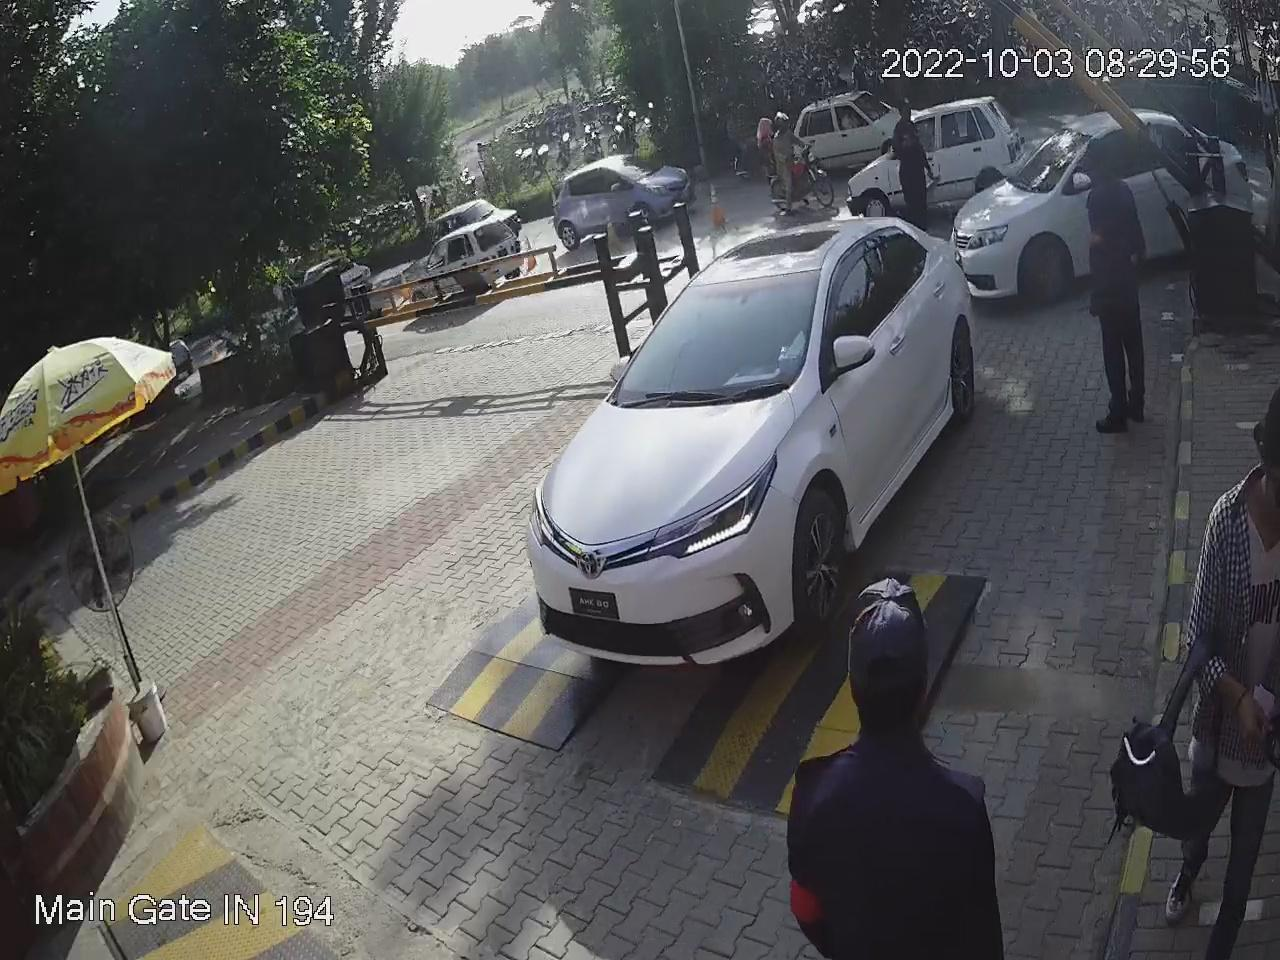windshield: (603, 270, 827, 392)
